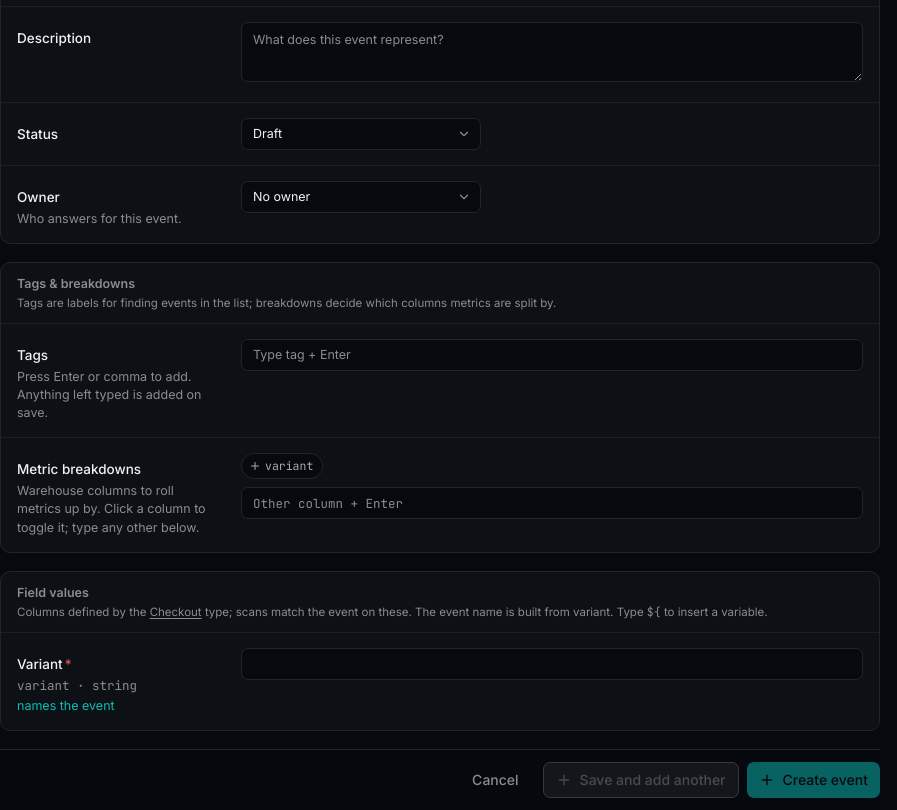
Test: EventForm — authoring an event the scan will recognise › asks the exact-name lookup, and a free name stays free (EVT-37)
The image size is (897, 810).
(page scrolled)
Type "b2" into the dropdown labelled "Variant" at {"x": 552, "y": 664}, box [241,648,863,680]
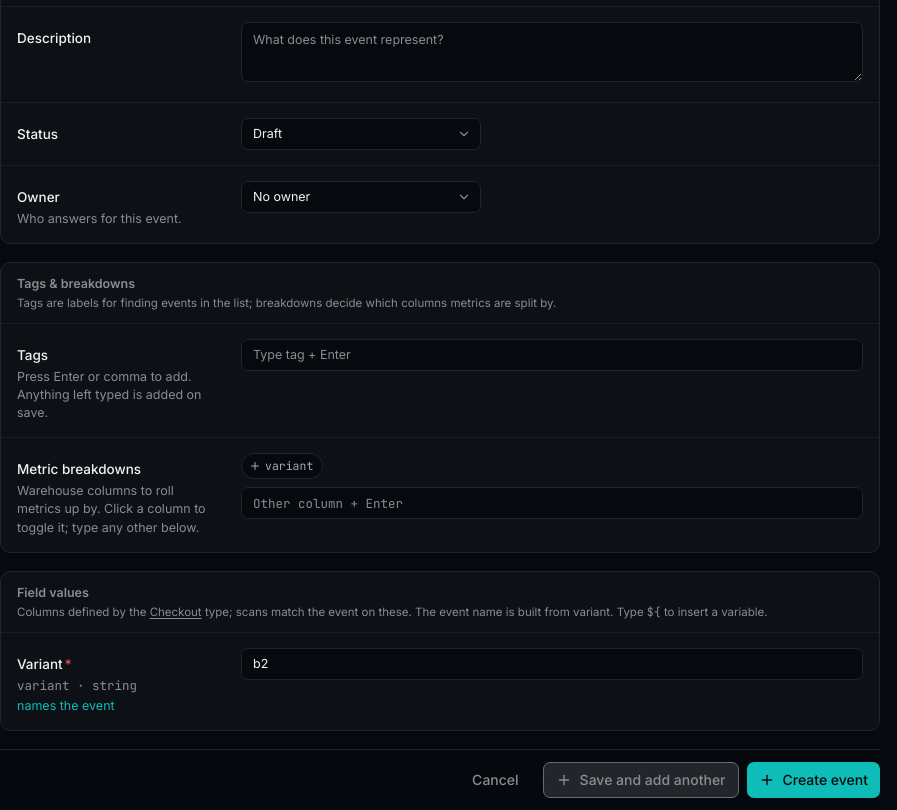
Expected: the button "Create event" is enabled, [746,762,880,798]
